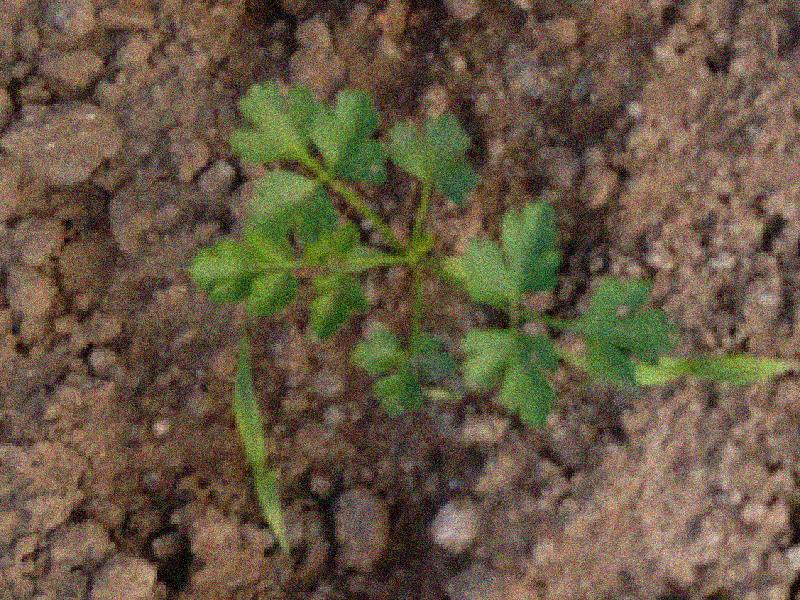radish: (188, 79, 682, 431)
